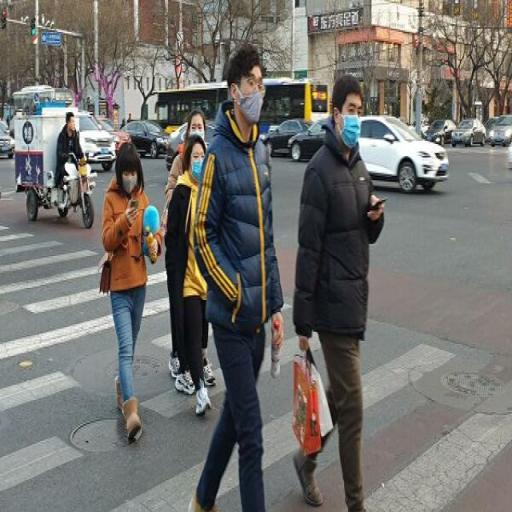person: (198, 49, 284, 512), (296, 76, 384, 512), (106, 139, 162, 444), (172, 115, 217, 395), (168, 141, 213, 412), (48, 112, 92, 204)
